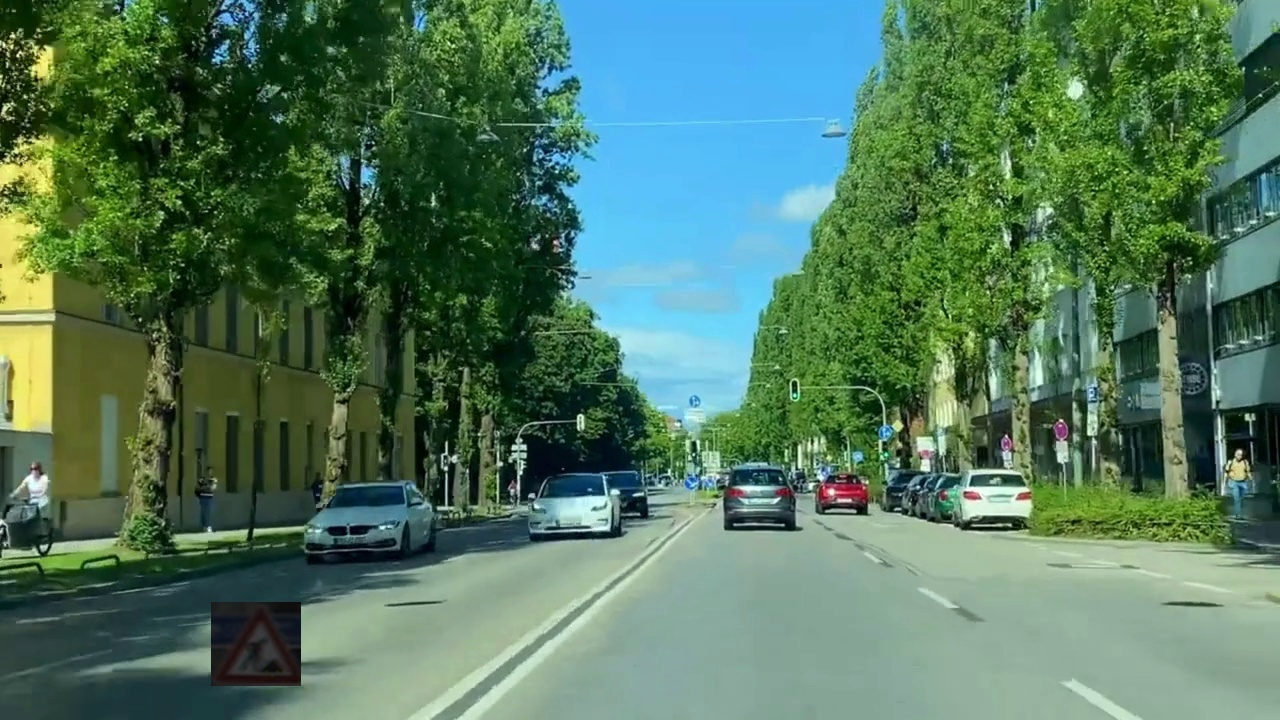Road work: (211, 602, 301, 686)
